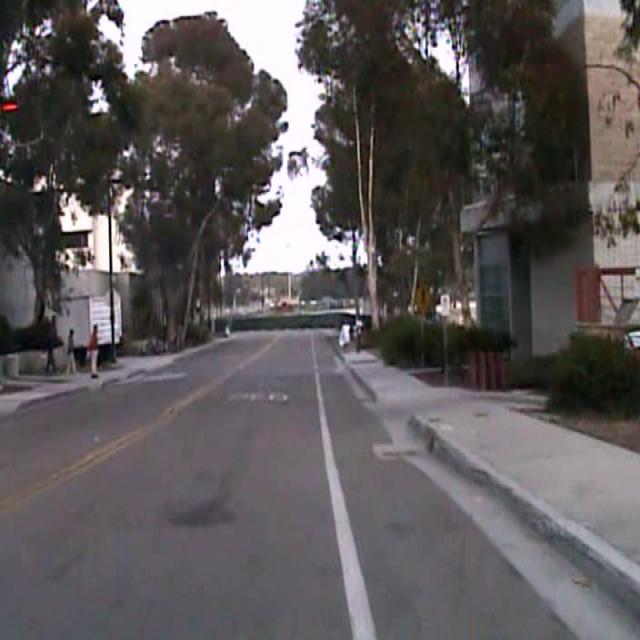pedestrianCrossing: (414, 279, 432, 316)
